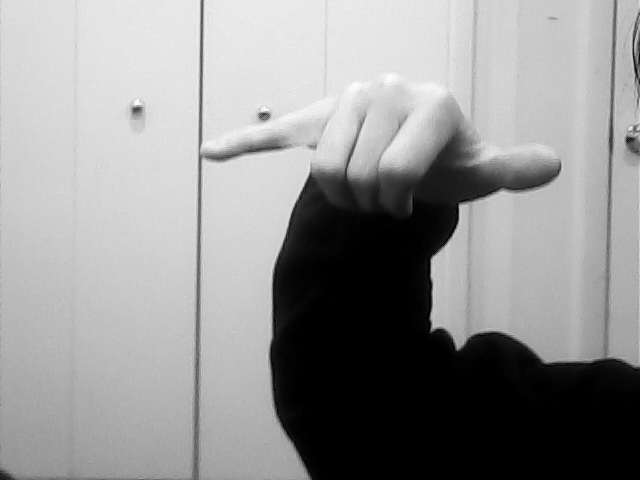aloha: (199, 70, 572, 219)
